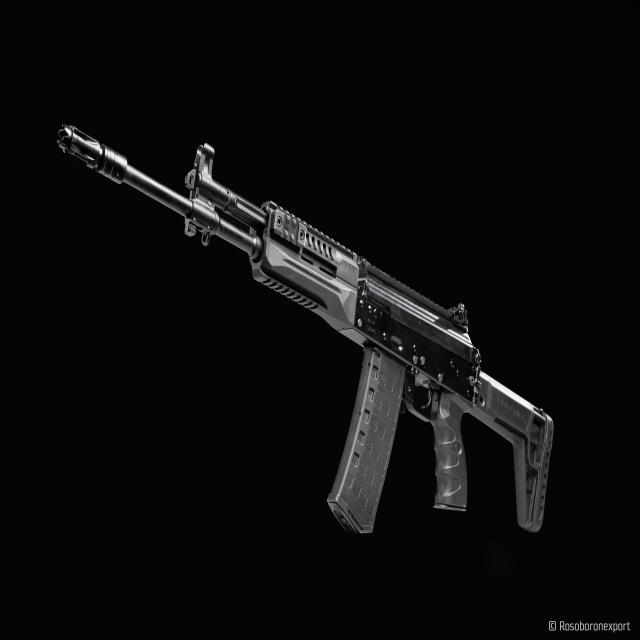Rifle: (56, 124, 556, 538)
